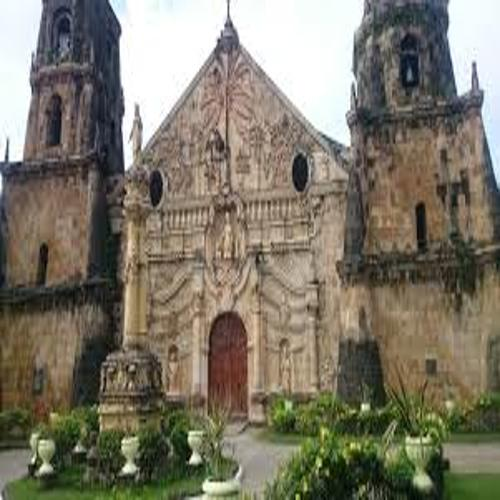Miagao Church: (2, 1, 500, 439)
